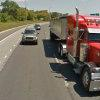Car: (20, 18, 45, 50)
